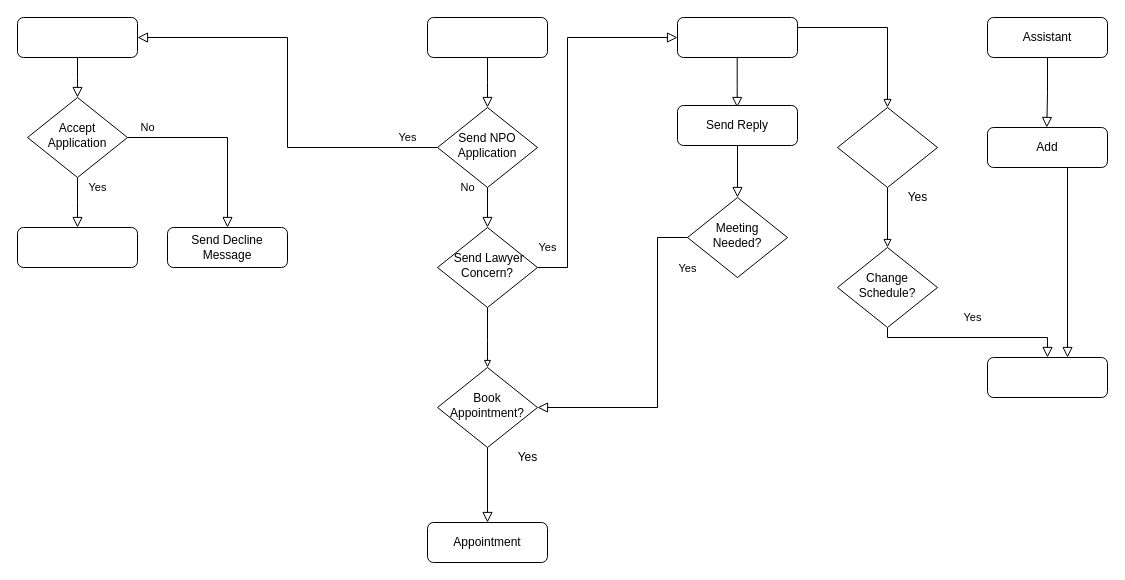
The diagram is 1125 pixels wide and 580 high, and some of its shapes have lost their labels. The shapes that lost their labels are listed below. From the top down, each one's box as (x1, y1, x2, y2) in pixels, then its label:
(16, 16, 138, 58): NPO Examiner
(426, 16, 548, 58): Client
(676, 16, 798, 58): Lawyer
(836, 106, 938, 188): Request Change
(16, 226, 138, 268): Send Accept Message
(986, 356, 1108, 398): Schedule
